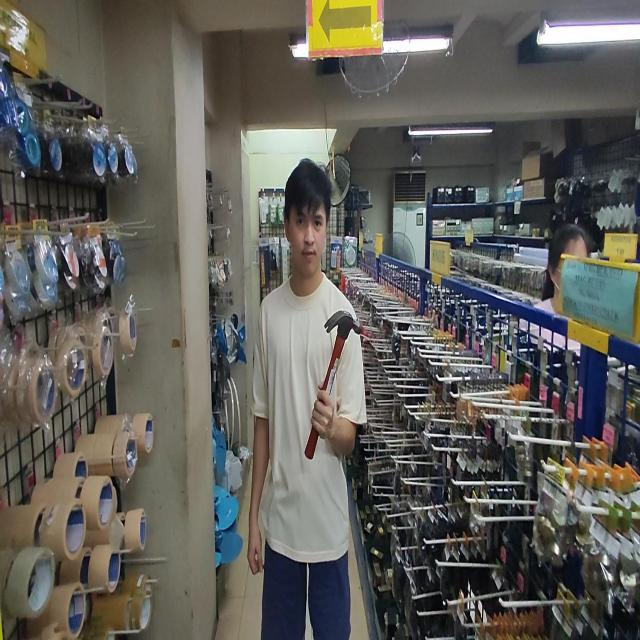hammer: (306, 311, 361, 457)
